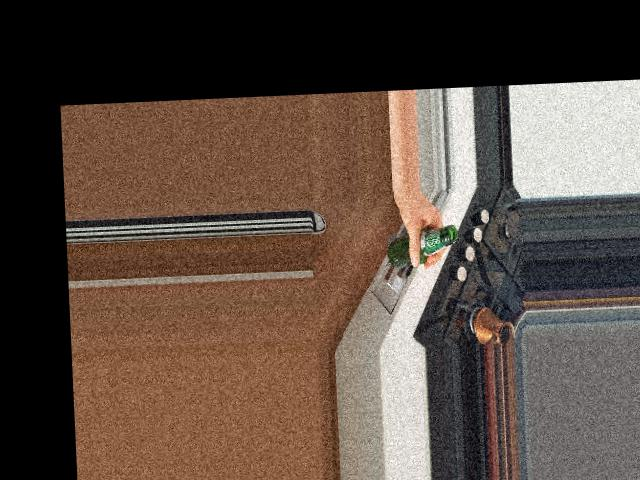beer: (386, 224, 458, 267)
